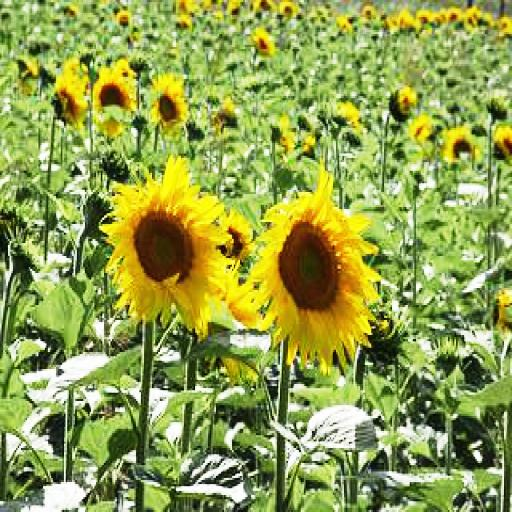sunflower: (248, 169, 381, 371), (102, 156, 236, 337), (88, 64, 136, 139), (45, 68, 86, 134), (147, 73, 186, 132), (445, 124, 477, 162), (491, 126, 512, 162)
